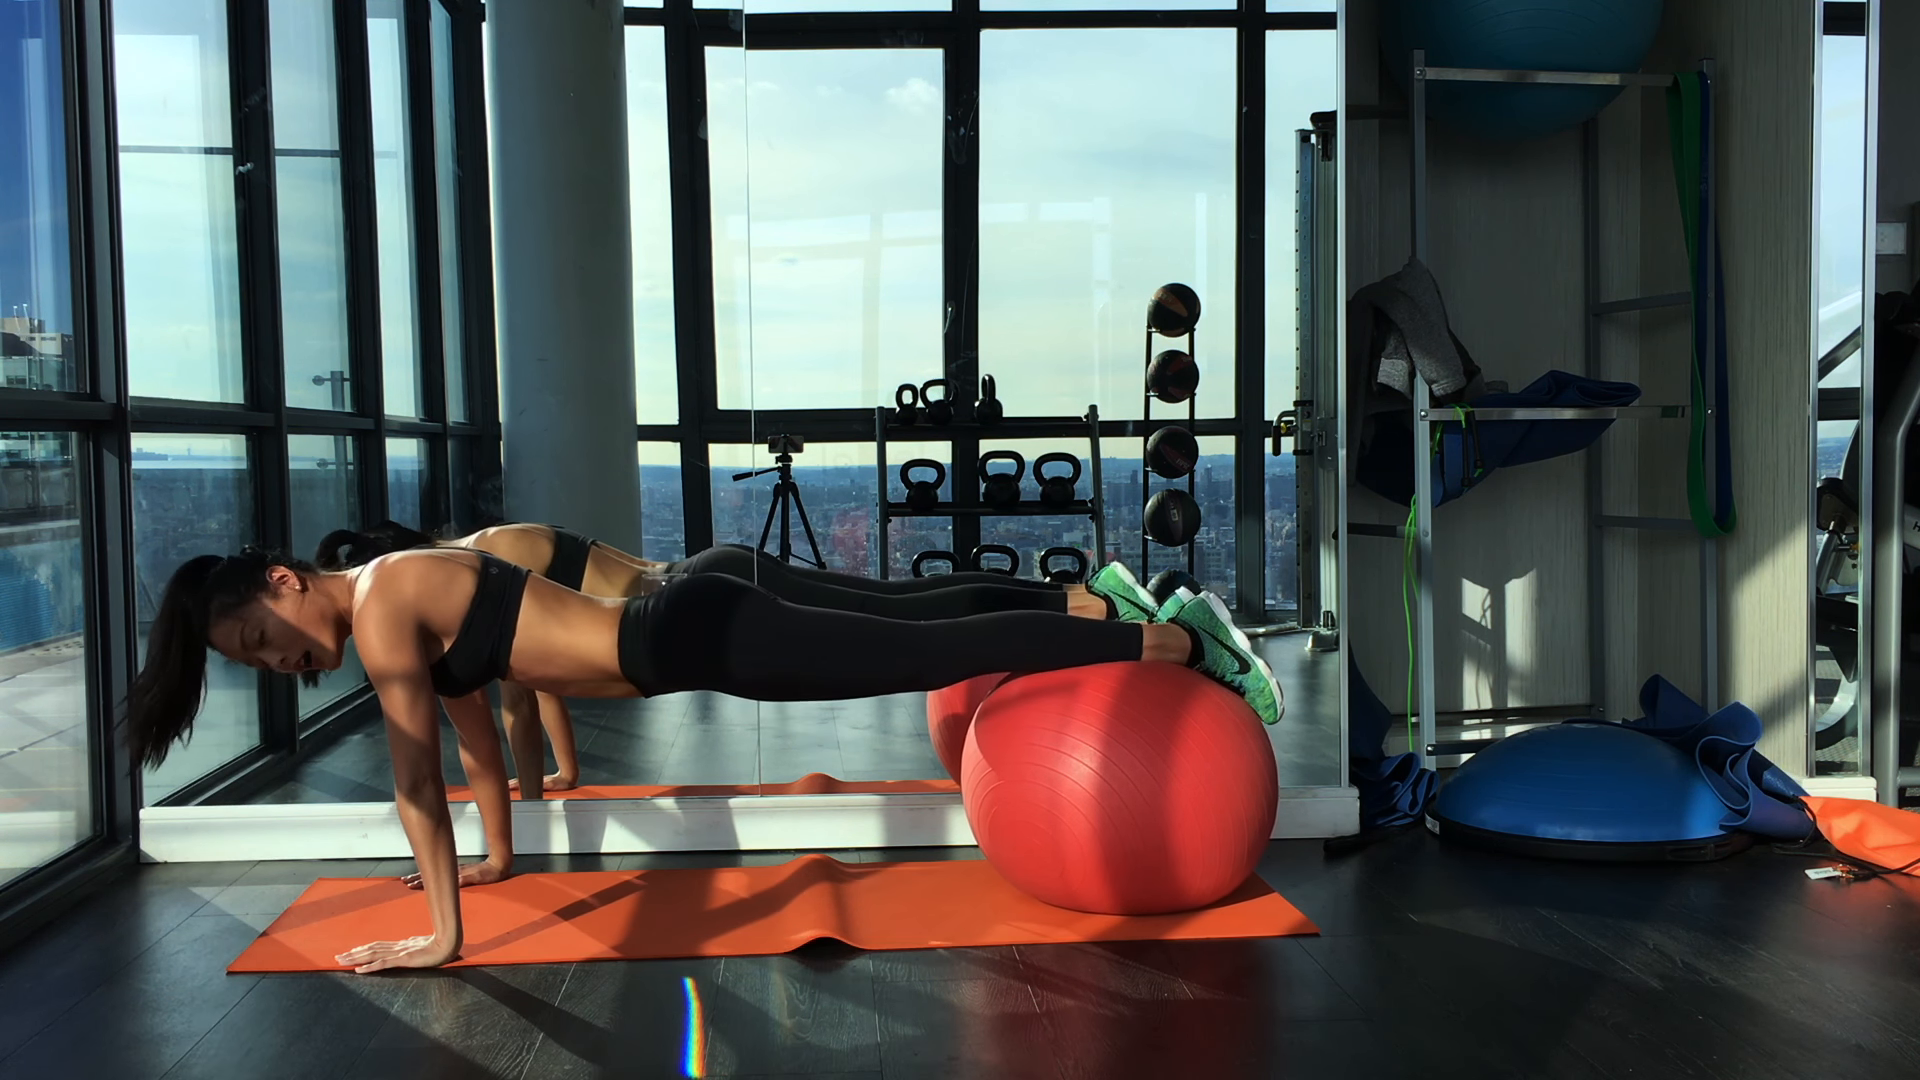yogaball: (949, 654, 1288, 924)
